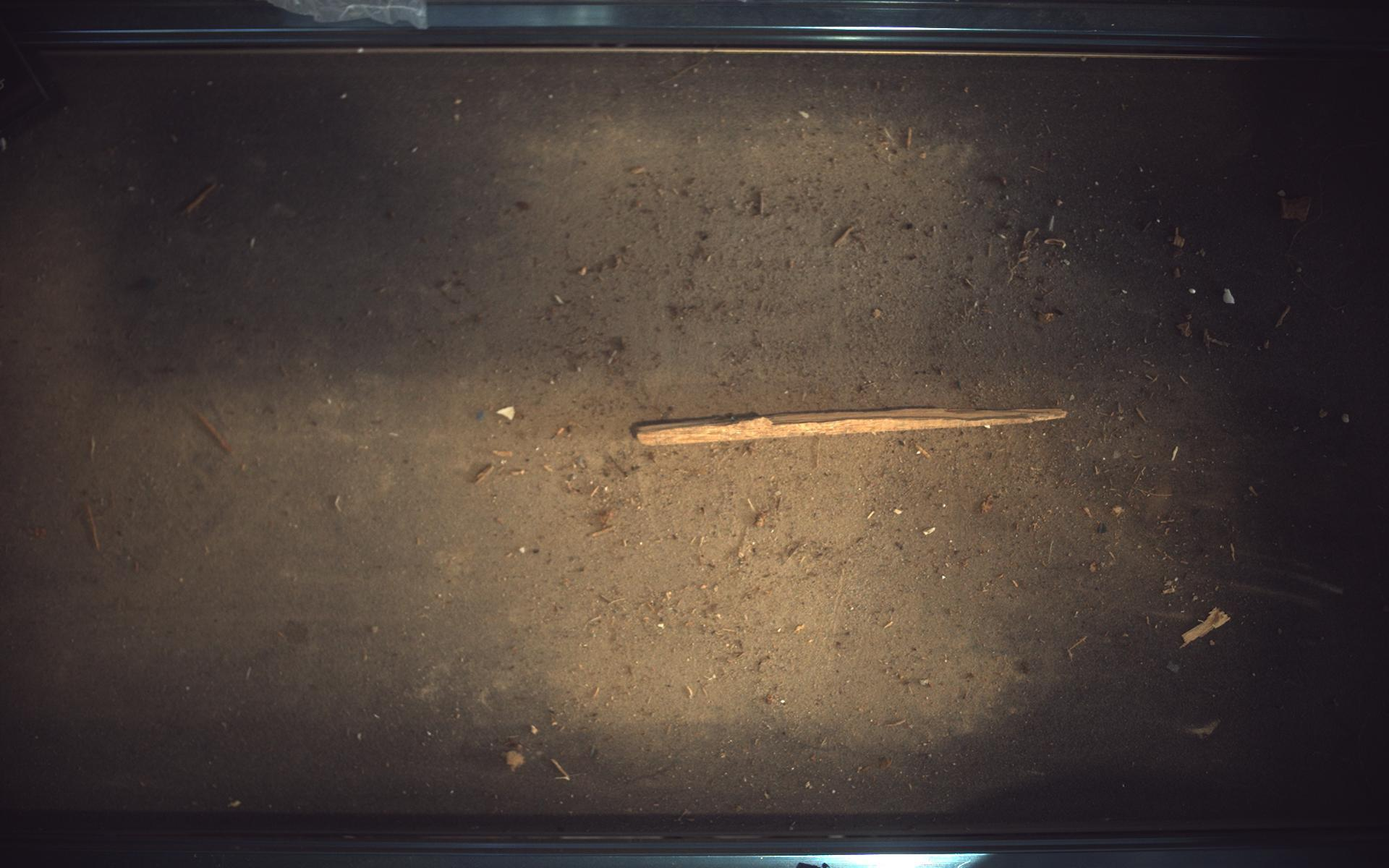wood: (634, 408, 1069, 446)
